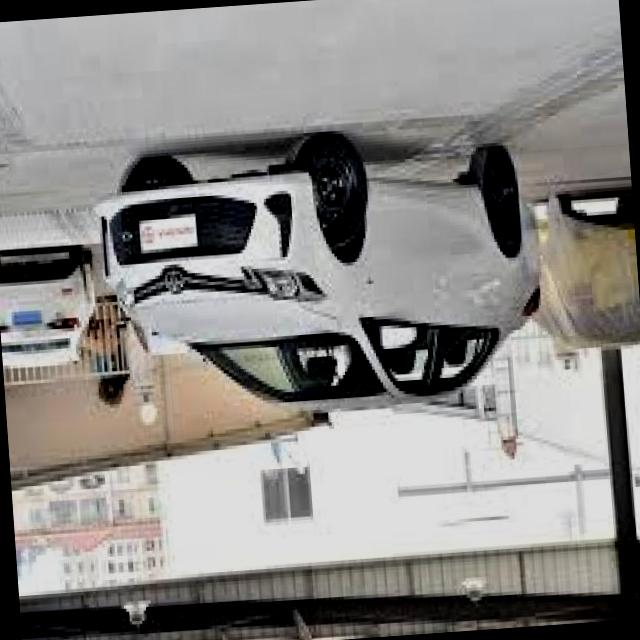ToyotaVios: (89, 120, 550, 430)
